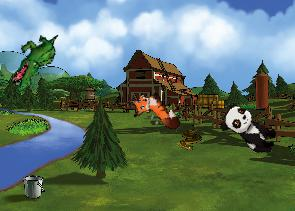crocodile: (9, 26, 60, 93)
fox: (124, 82, 183, 144)
panda: (216, 100, 283, 158)
